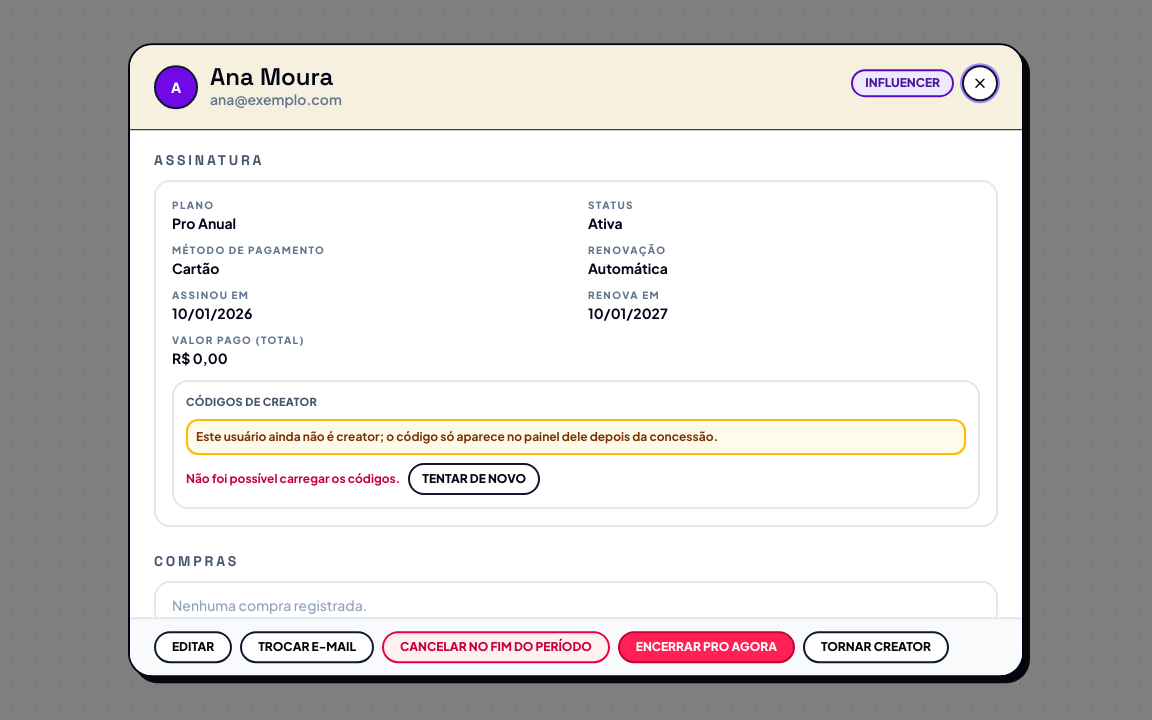
cancelamento de assinatura (Fatia 6) › aviso de influencer aparece para pro_source 'influencer'
Click the button "Cancelar no fim do período".
click(496, 647)  # box [382,631,610,663]
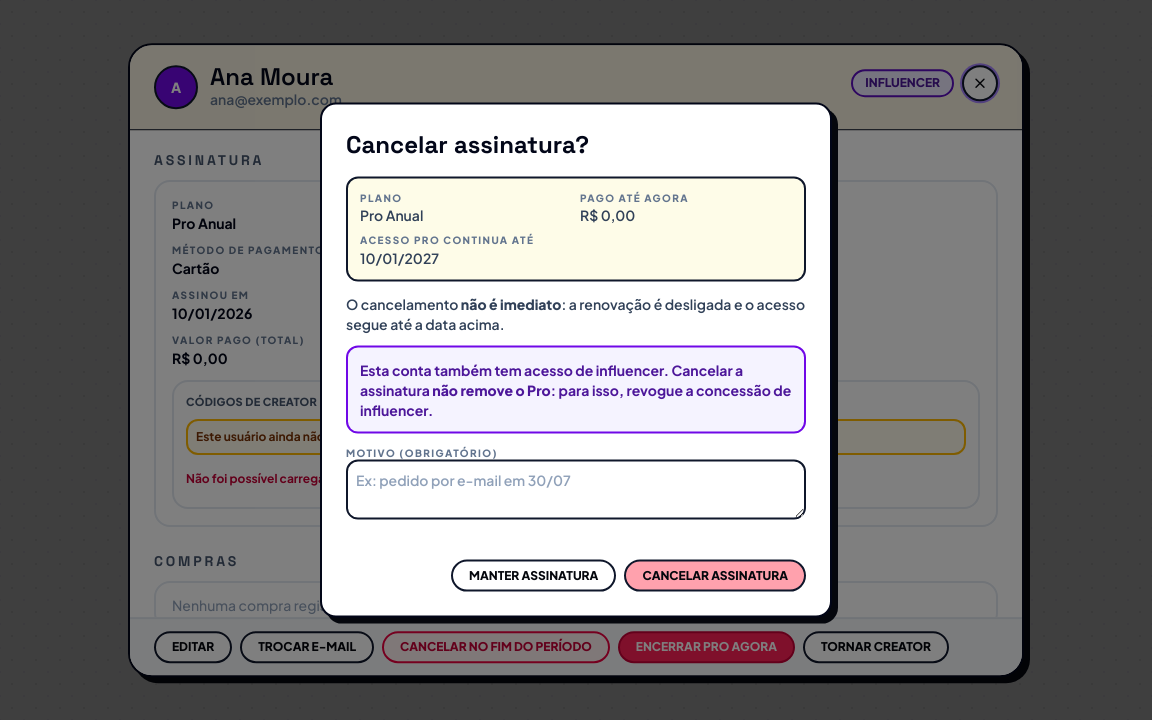
Check: the element with test id "aviso-influencer" is shown, box [346,345,806,433]
